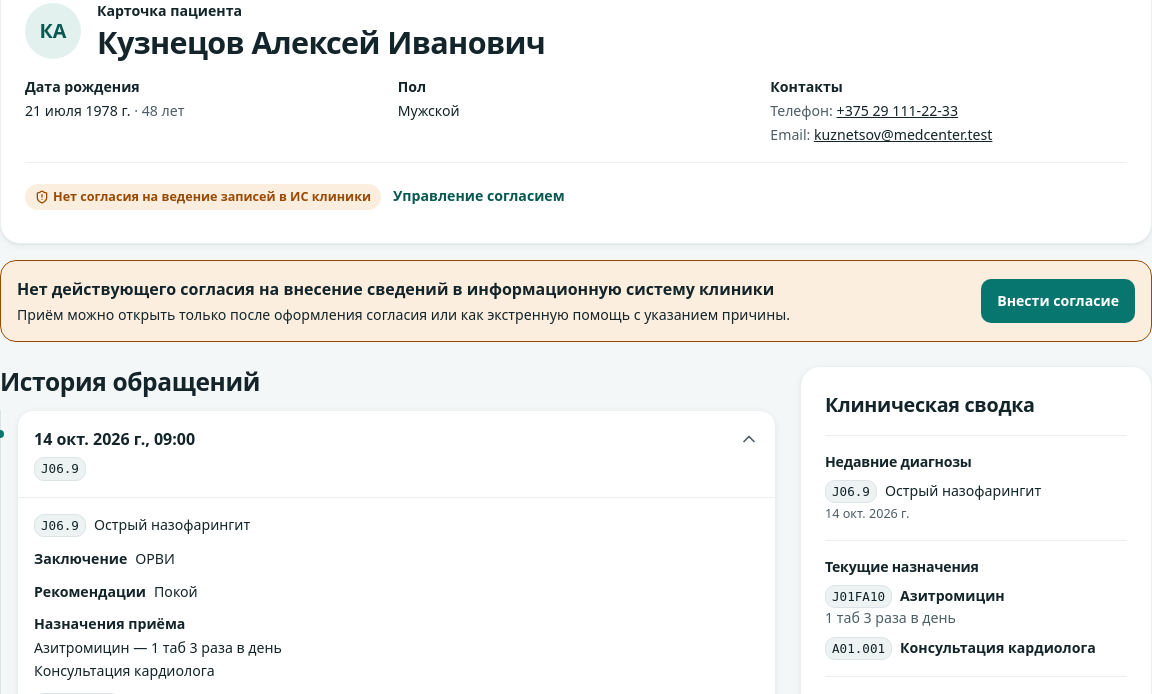
Test: PatientCardView consent (ADR-019, A1) › should warn up front, before any encounter is tried, when the patient has no active consent, with one button to record it
Expected: the message with test id "consent-banner" shows "Нет действующего согласия на внесение сведений в информационную систему клиники", [17,278,774,300]
Expected: the element with test id "consent-line-none" reads "Нет согласия на ведение записей в ИС клиники", [53,188,371,205]
Click the button "Внести согласие": (1058, 301) [981,279,1135,323]
(page scrolled)
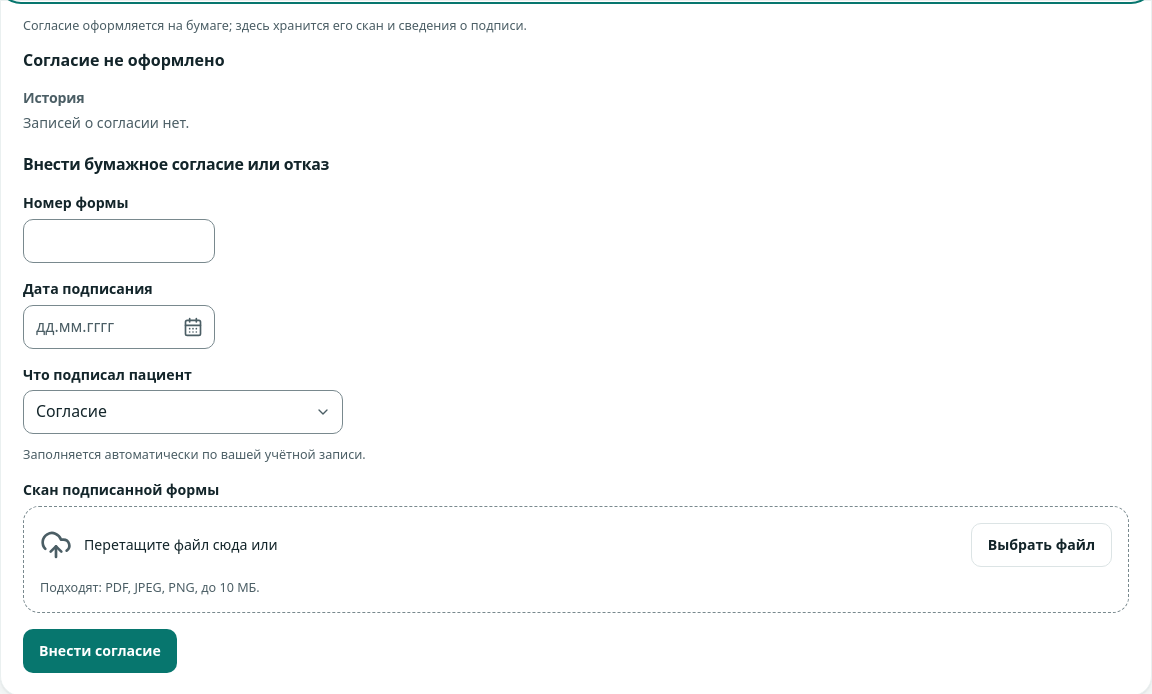
Expected: the form "Внести бумажное согласие или отказ" is shown
